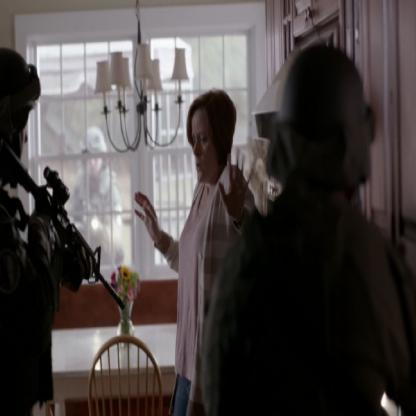Gun: (0, 134, 126, 312)
